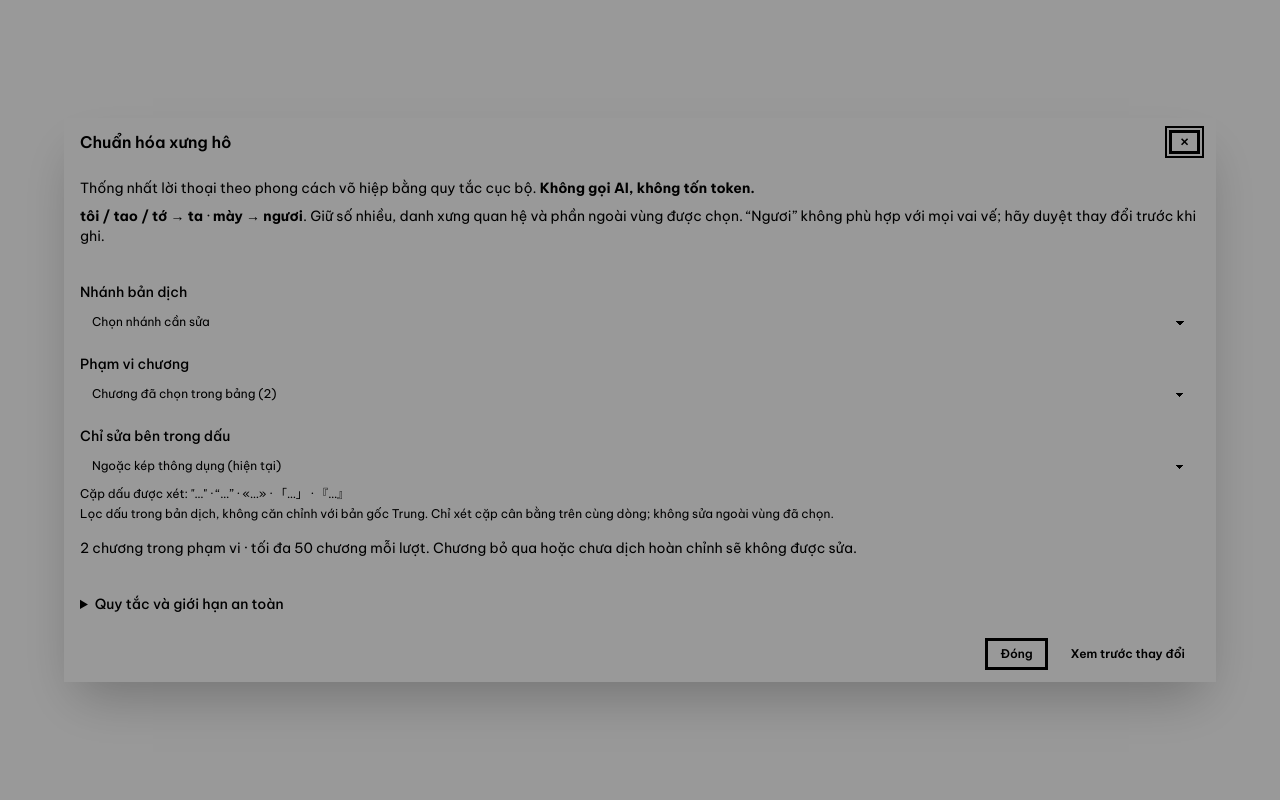
pronoun review dialog › uses selected chapters including off-page indexes, without silently clipping
The image size is (1280, 800).
Select "Bản dịch AI" in the dropdown labelled "Nhánh bản dịch" at (640, 322), box [80,306,1200,338]
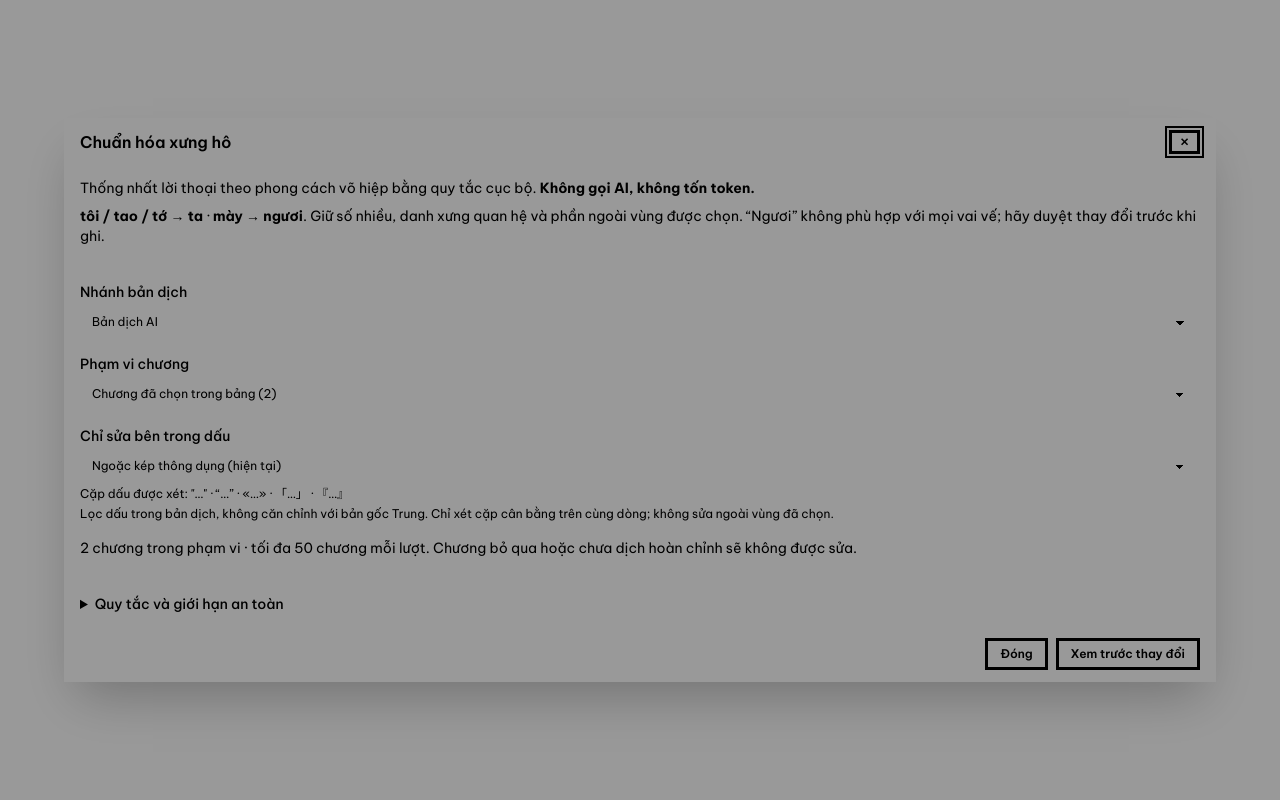
Click the button "Xem trước thay đổi" at (1128, 654), box [1056,638,1200,670]
(page scrolled)
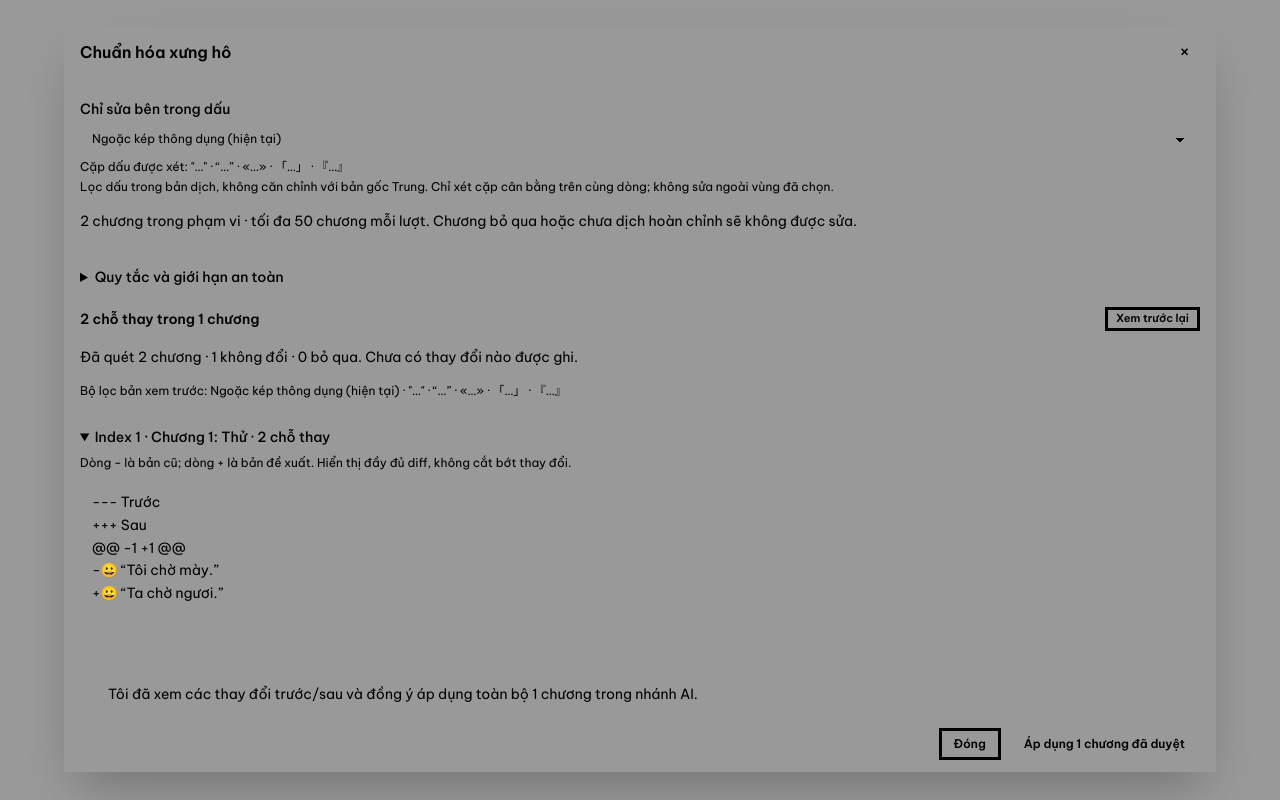
Expected: the element named "Bản xem trước xưng hô" is shown, [80,307,1200,704]
